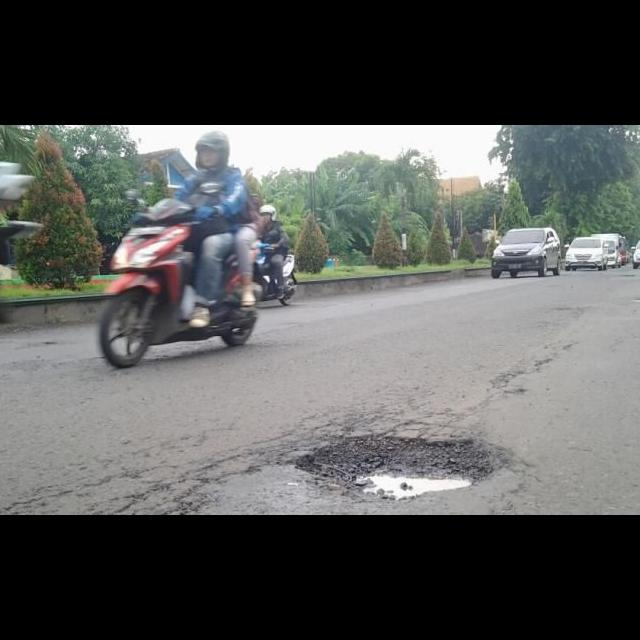lubang_kecil: (295, 434, 502, 503)
retak_kulit_buaya: (30, 458, 261, 515), (210, 404, 290, 509), (285, 389, 437, 433)
